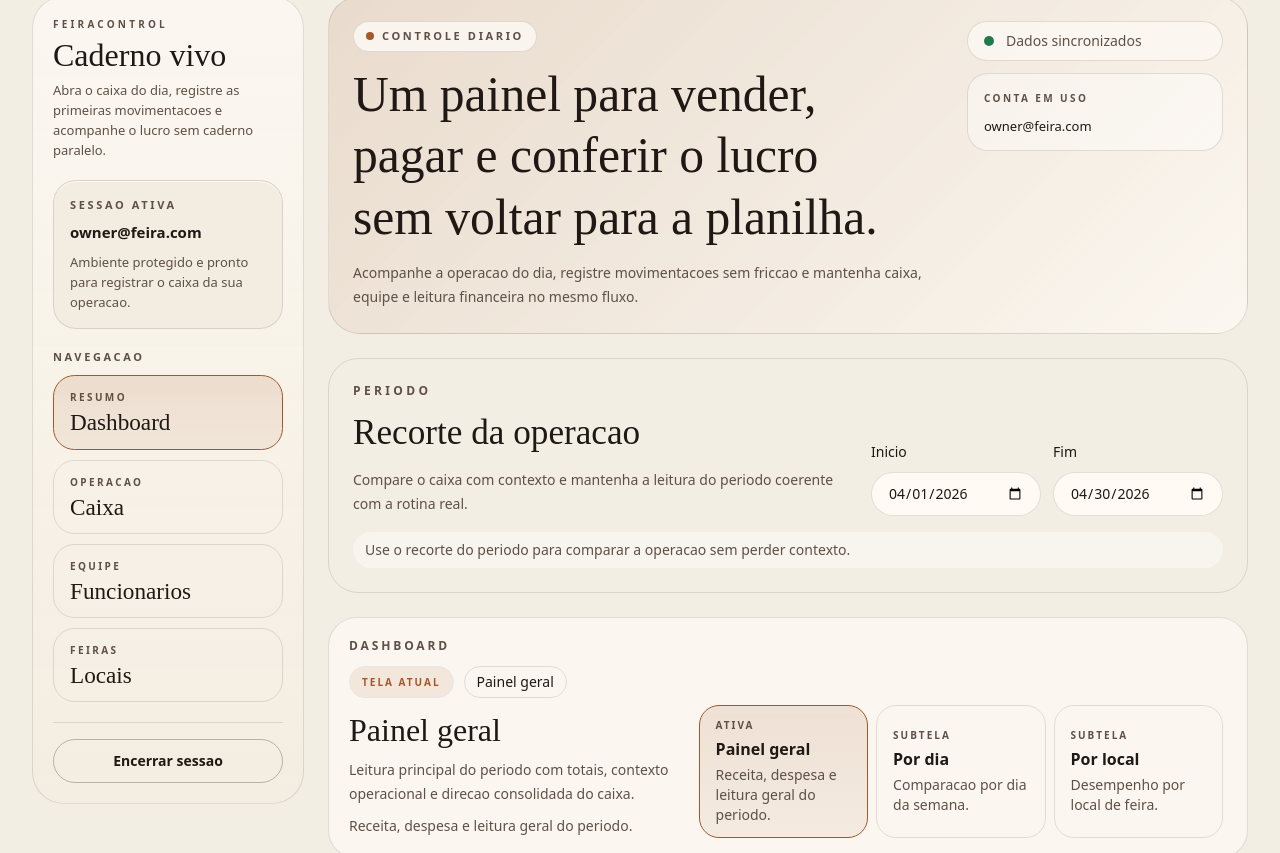
Test: App context flows › retorna para equipe ativa com feedback visivel apos cadastrar funcionario
The image size is (1280, 853).
Click the button with test id "nav-employees". click: x=168, y=581
box: [53,544,283,618]
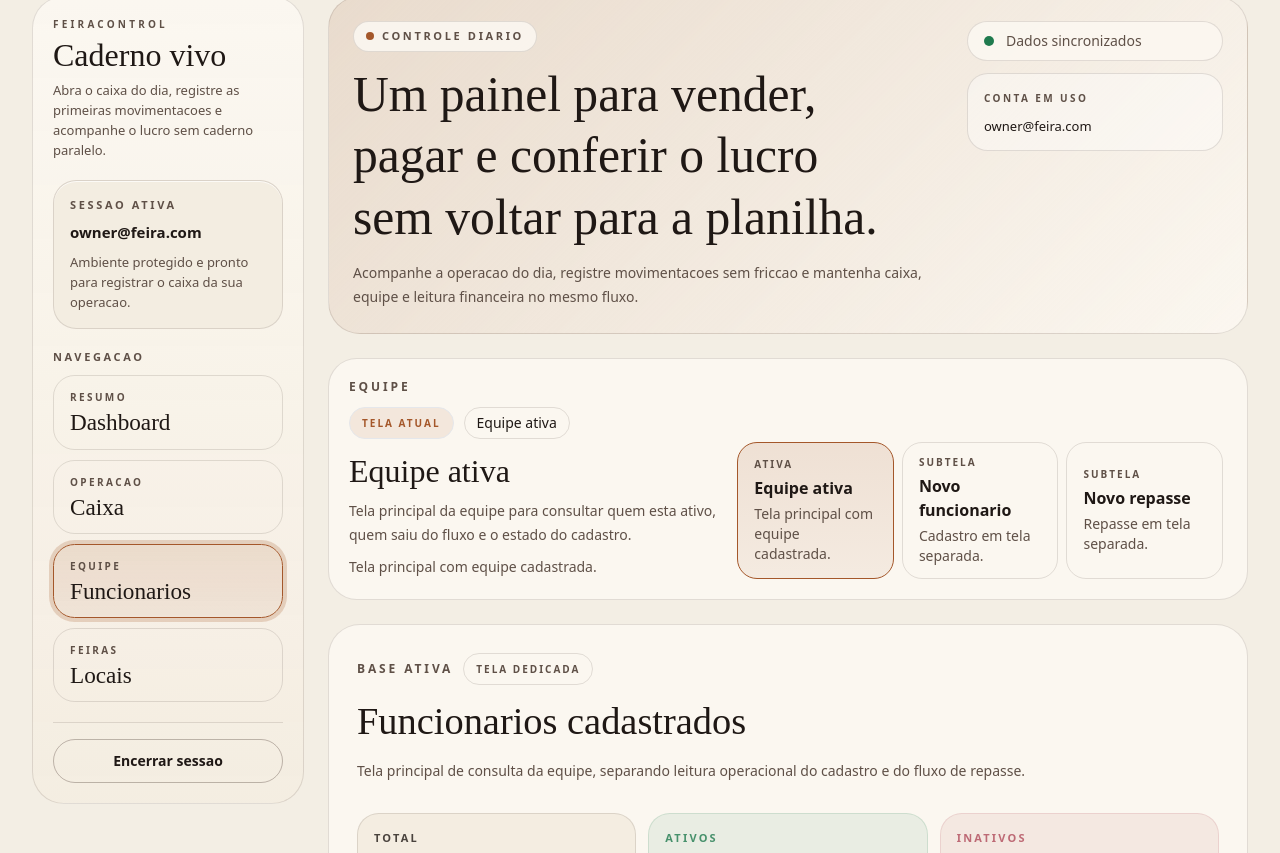
Click the tab "Subtela Novo funcionario Cadastro em tela separada.". click: x=980, y=511
box: [902,442,1058,580]
(page scrolled)
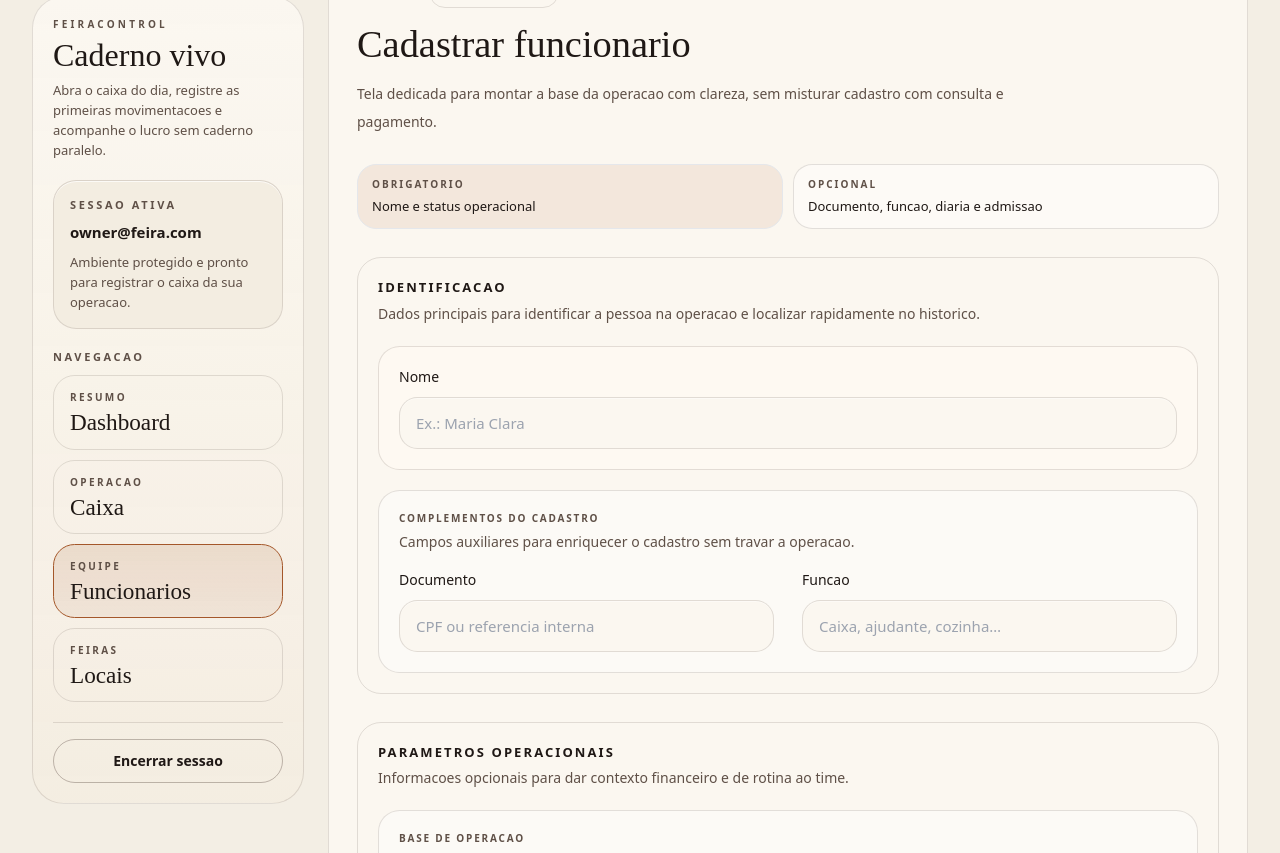
Type "Joao Pedro" into the field labelled "Nome". click: x=788, y=423
box: [399,397,1177,449]
(page scrolled)
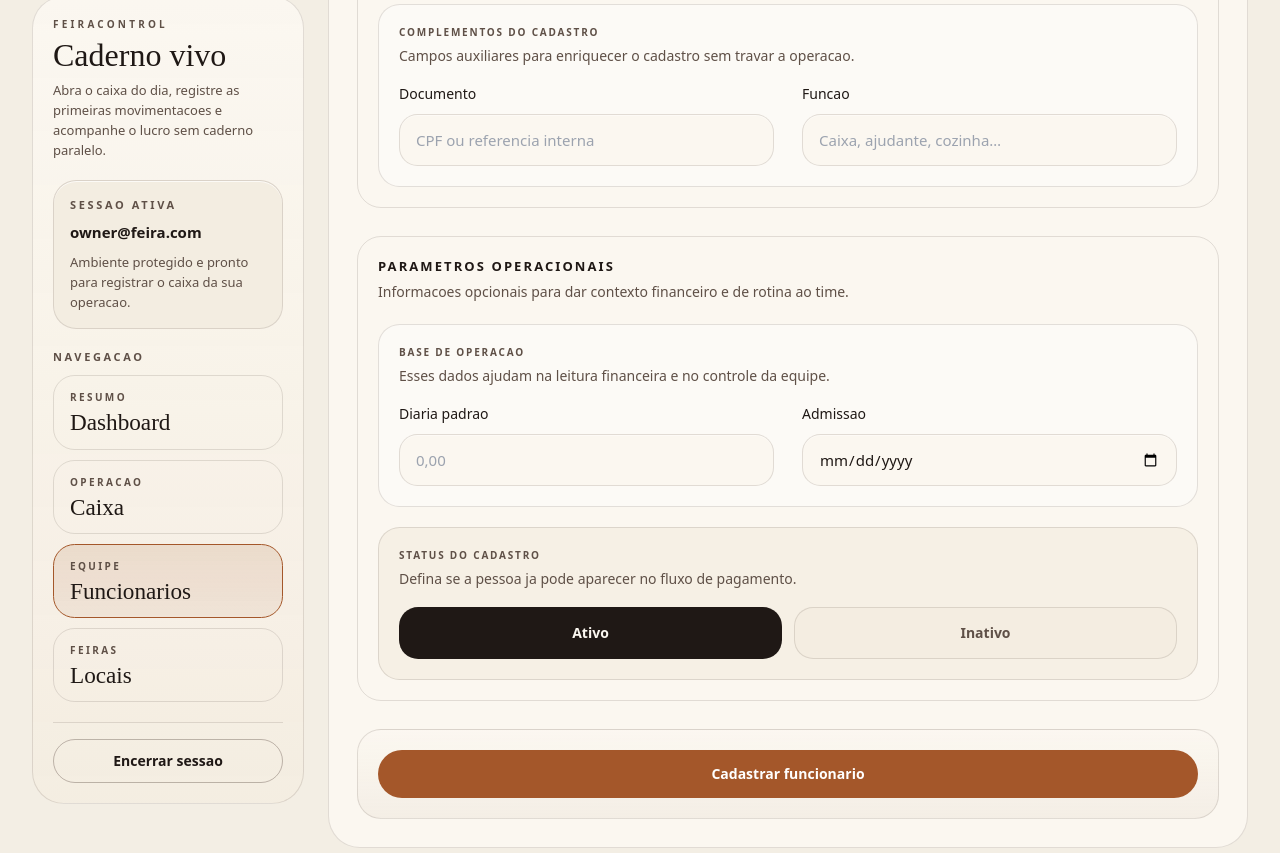
Click the button "Cadastrar funcionario". click: x=788, y=774
box: [378,750,1198,798]
(page scrolled)
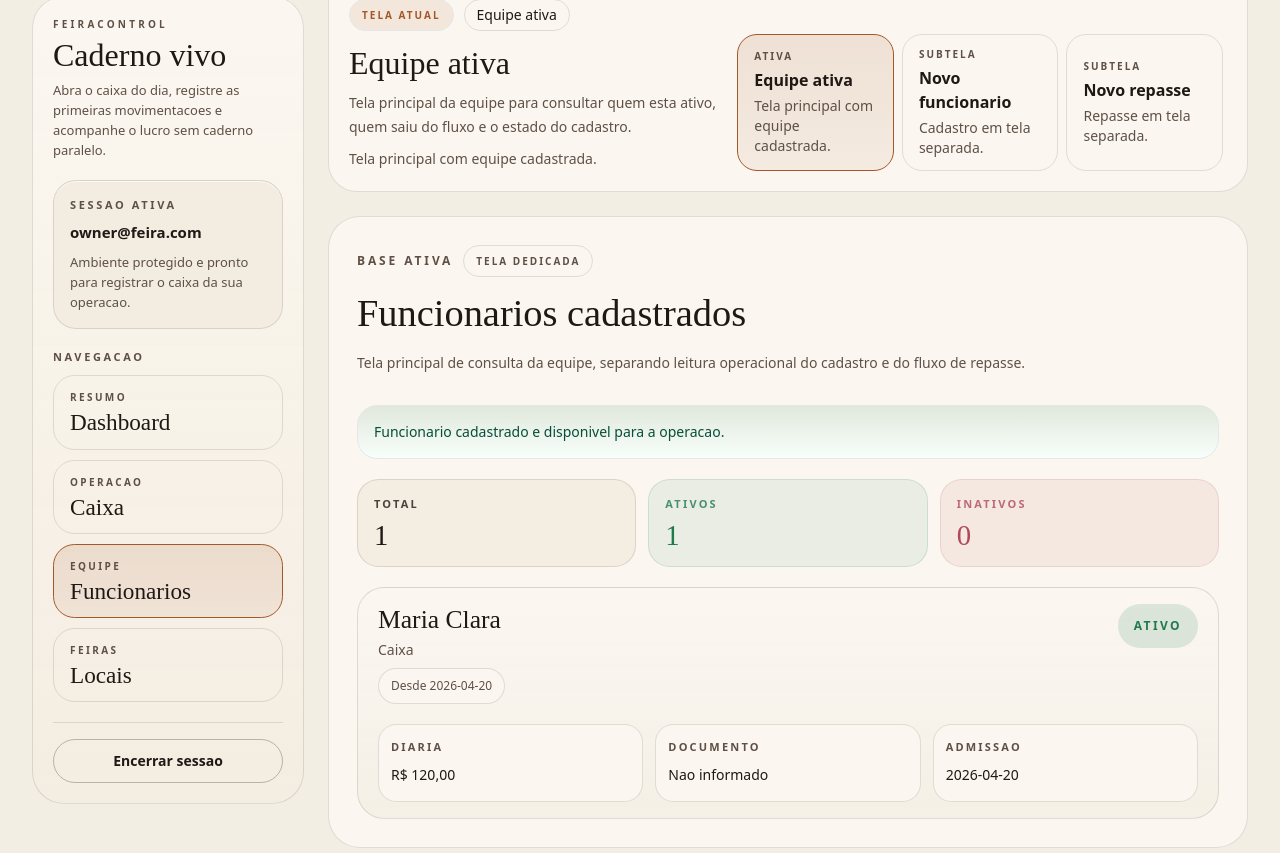
Expected: the text "Funcionario cadastrado e disponivel para a operacao." is shown, [357,406,1219,460]
Expected: the heading "Funcionarios cadastrados" is shown, [357,292,746,334]
